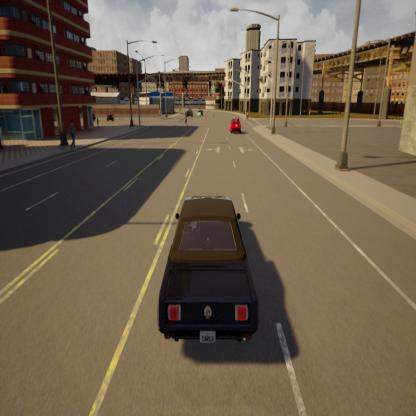Cars: (158, 194, 260, 357), (229, 115, 242, 137)
Pedestrian: (69, 117, 76, 150), (182, 112, 191, 134)
